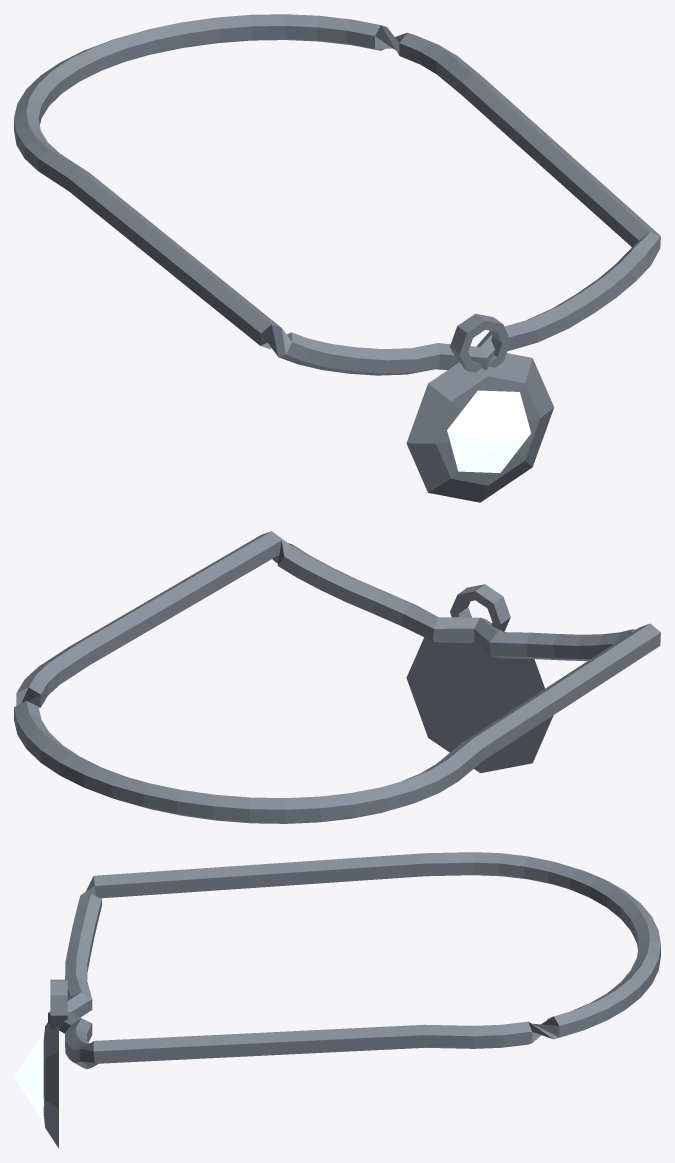
The model's file is armor_amulet_rare_orc.glb.
3 views of the same model, one above another, from view 1: azimuth 30°, elevation 25°; view 2: azimuth 150°, elevation 25°; view 3: azimuth 270°, elevation 25° (orthographic). The views are drawn at different scales.
Parts seen in each view (by area): view 1: armor_amulet_rare_orc__spine_03; view 2: armor_amulet_rare_orc__spine_03; view 3: armor_amulet_rare_orc__spine_03.
Boxes of the visible parts, x1,y1,x2,y2 form: armor_amulet_rare_orc__spine_03: (14, 14, 660, 502); armor_amulet_rare_orc__spine_03: (14, 531, 660, 823); armor_amulet_rare_orc__spine_03: (14, 852, 660, 1148).
Size of the model in its own units: 22.13 by 11.69 by 33.06.
